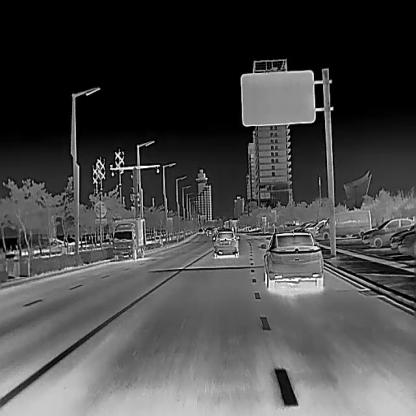car: (260, 229, 323, 289), (361, 218, 414, 248), (321, 209, 371, 239), (212, 230, 239, 258), (390, 223, 416, 247), (398, 229, 415, 255), (305, 218, 329, 235)
truck: (110, 218, 146, 260)
